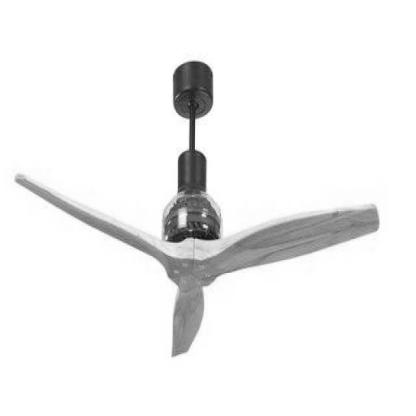ceiling-fan: (14, 58, 379, 356)
